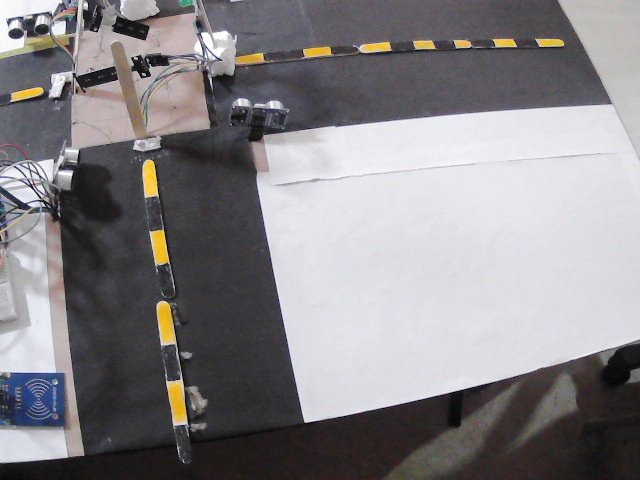black_strip: (160, 342, 184, 380), (139, 194, 163, 231), (171, 420, 191, 459), (155, 261, 175, 294), (264, 49, 304, 63), (330, 42, 362, 54), (433, 36, 455, 48), (520, 34, 536, 48), (0, 87, 13, 104), (391, 39, 409, 51), (473, 33, 491, 45)
mixed_lane: (136, 151, 195, 463), (238, 34, 566, 64), (1, 84, 46, 107)
traffic_light: (38, 56, 122, 86), (109, 3, 150, 39), (175, 0, 195, 12)
uno_breadboard: (0, 370, 67, 429), (0, 199, 17, 324), (228, 99, 294, 131), (48, 140, 82, 200), (4, 18, 58, 36)
yellow_strip: (164, 380, 186, 422), (156, 300, 176, 345), (147, 230, 171, 260), (139, 159, 160, 192), (11, 84, 40, 102), (234, 51, 262, 63), (494, 34, 518, 48), (365, 41, 391, 53), (410, 37, 432, 51), (536, 37, 564, 48), (305, 43, 331, 54), (454, 34, 470, 45)
